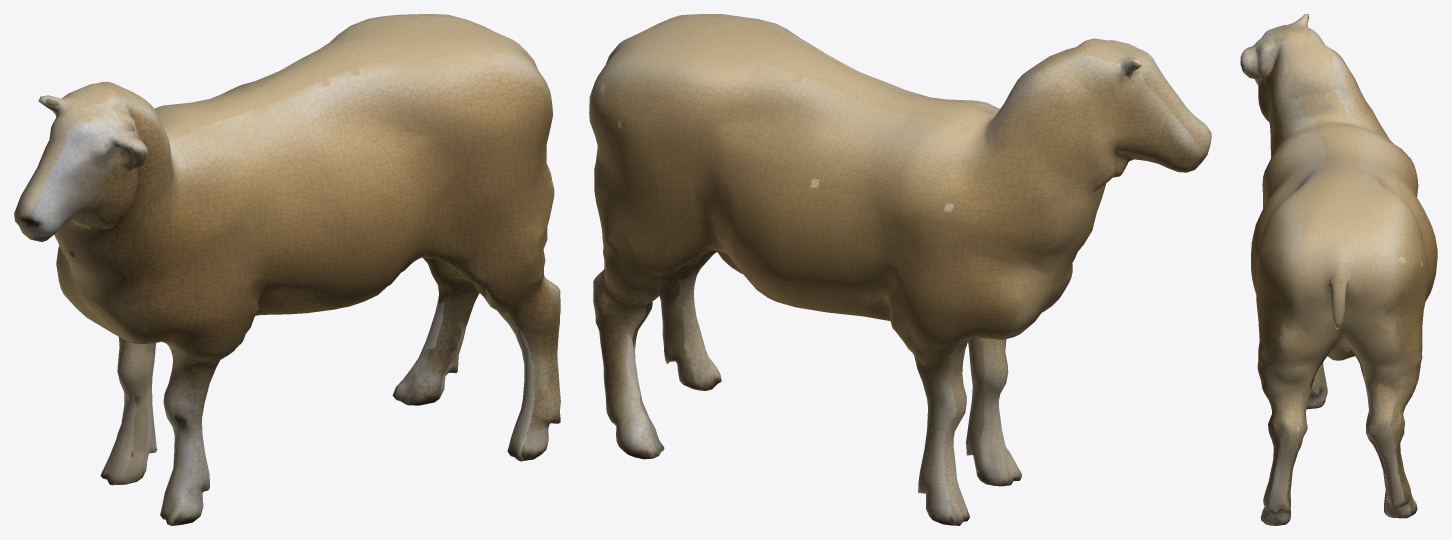
The model's file is oveja.glb.
3 renders of one model, left to right at view 1: azimuth 30°, elevation 25°; view 2: azimuth 150°, elevation 25°; view 3: azimuth 270°, elevation 25°, orthographic. The views are drawn at different scales.
Visible parts, largest first — view 1: temp_mesh.ply; view 2: temp_mesh.ply; view 3: temp_mesh.ply.
Part boxes in pixels (left/top/right/bottom): temp_mesh.ply: left=14, top=14, right=560, bottom=525; temp_mesh.ply: left=589, top=14, right=1211, bottom=525; temp_mesh.ply: left=1240, top=14, right=1437, bottom=525.
Size of the model in its own units: 1.2 by 0.9217 by 0.4816.
Materials: 1 (1 with a texture image).
